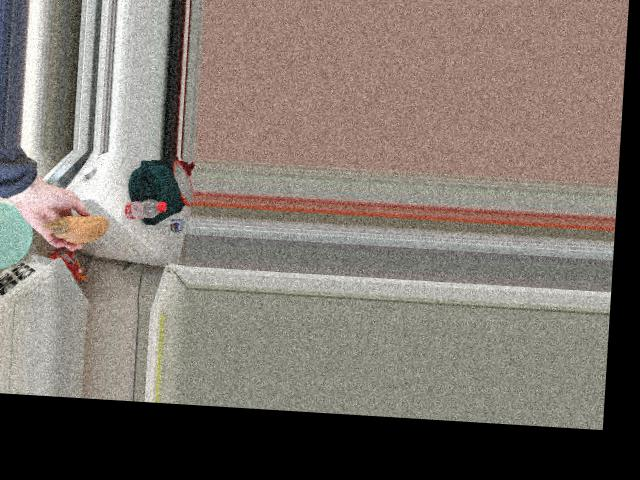sweet_potato: (53, 214, 123, 243)
